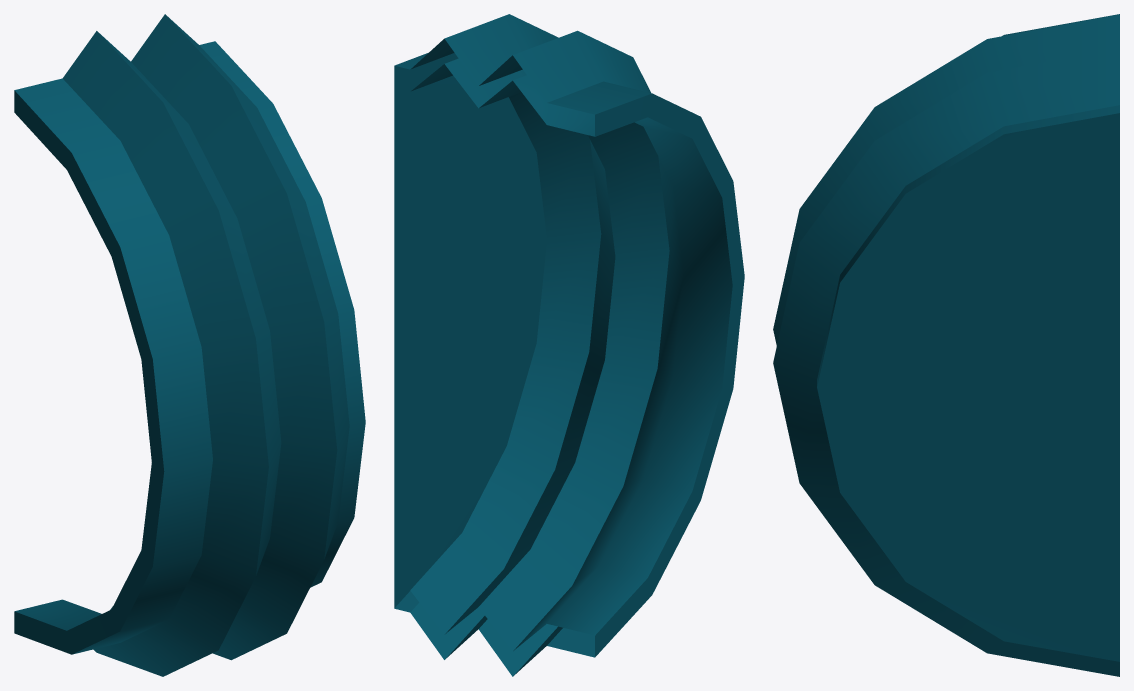
Rendered from Modulo1_Final_Blockout_Cobertura.FBX.
The picture shows the model from 3 angles, left to right: view 1: azimuth 30°, elevation 25°; view 2: azimuth 150°, elevation 25°; view 3: azimuth 270°, elevation 25°; orthographic projection.
Visible parts, largest first — view 1: Tubo_Modulo1_Final_Covertura; view 2: Tubo_Modulo1_Final_Covertura; view 3: Tubo_Modulo1_Final_Covertura.
Boxes of the visible parts, left/top/right/bottom form: Tubo_Modulo1_Final_Covertura: left=14, top=14, right=365, bottom=676; Tubo_Modulo1_Final_Covertura: left=394, top=14, right=744, bottom=676; Tubo_Modulo1_Final_Covertura: left=773, top=14, right=1119, bottom=676.
Bounding box in the file's own units: 37.5 × 111 × 55.26.
